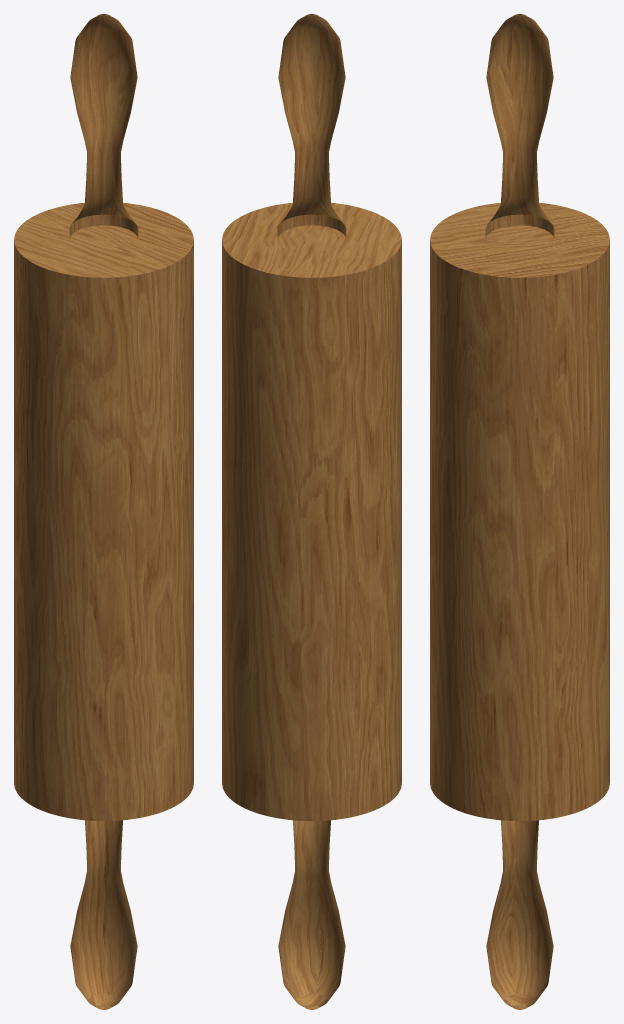
Rendered from RollingPin.glb.
3 views of the same model, side by side, from view 1: azimuth 30°, elevation 25°; view 2: azimuth 150°, elevation 25°; view 3: azimuth 270°, elevation 25° (orthographic).
Parts seen in each view (by area): view 1: rolling_pin_rolling_pin; view 2: rolling_pin_rolling_pin; view 3: rolling_pin_rolling_pin.
Part boxes in pixels (bbox=[...]): rolling_pin_rolling_pin: bbox=[14, 14, 193, 1009]; rolling_pin_rolling_pin: bbox=[222, 14, 401, 1009]; rolling_pin_rolling_pin: bbox=[430, 14, 609, 1009].
Size of the model in its own units: 0.12 by 0.729 by 0.12.
Materials: 1 (1 with a texture image).
